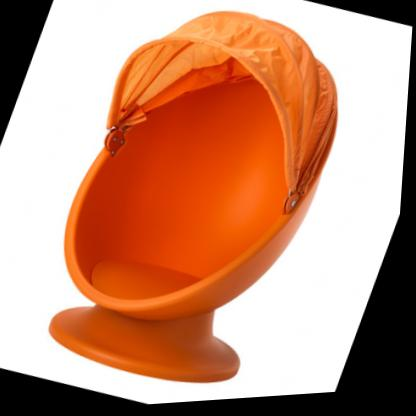Chair: (11, 0, 385, 414)
